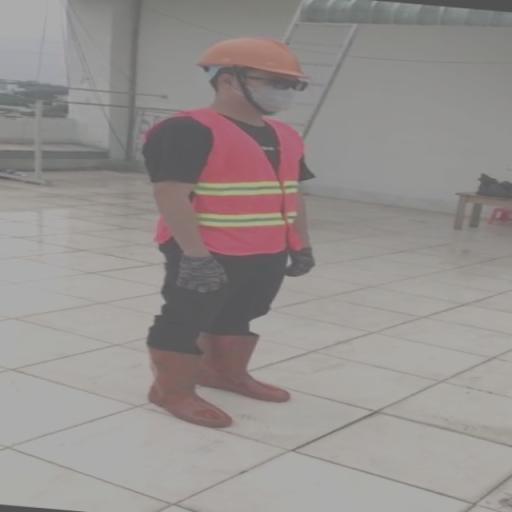Person: (124, 24, 346, 462)
boots: (140, 341, 238, 434), (196, 330, 293, 408)
gloves: (174, 254, 234, 294), (280, 244, 326, 281)
helmet: (193, 27, 308, 78)
vest: (150, 103, 299, 257)
